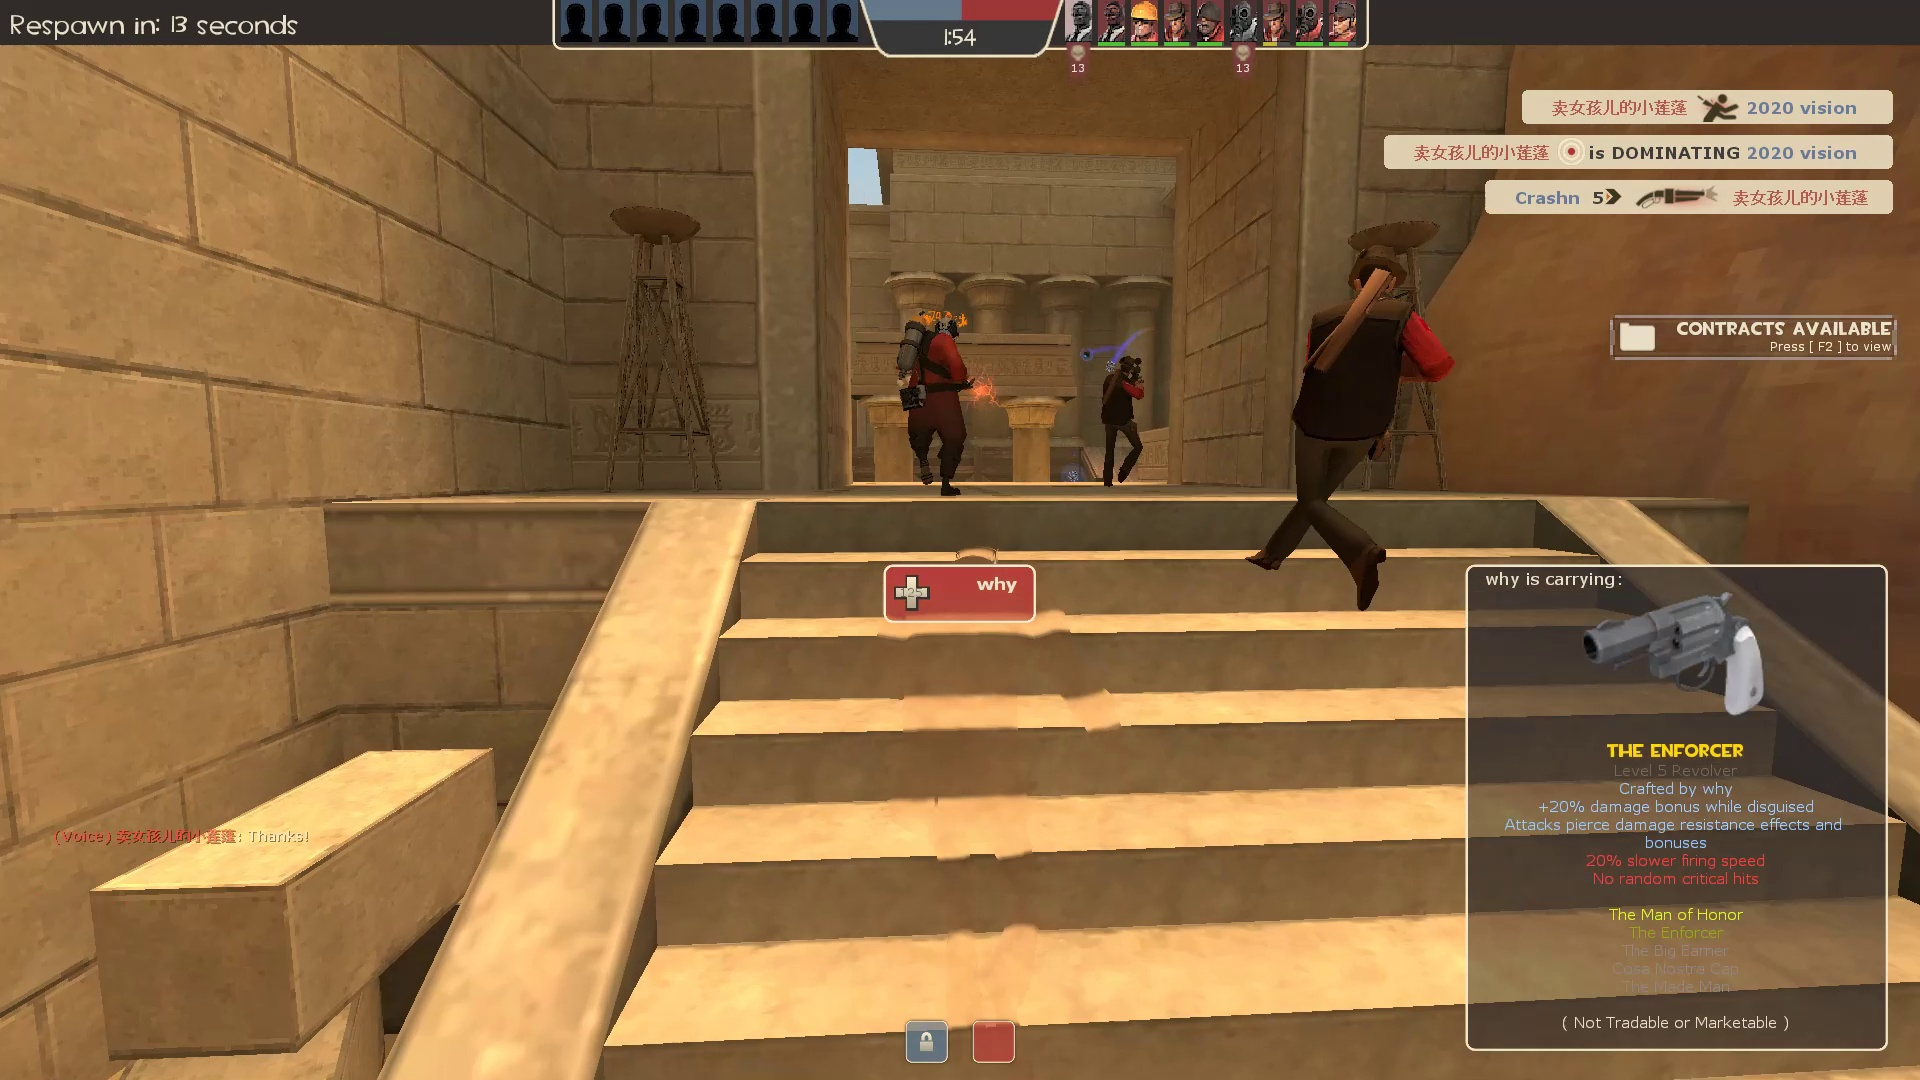red_pyro: (885, 299, 992, 500)
red_sniper: (1232, 229, 1462, 616), (1093, 348, 1151, 491)
